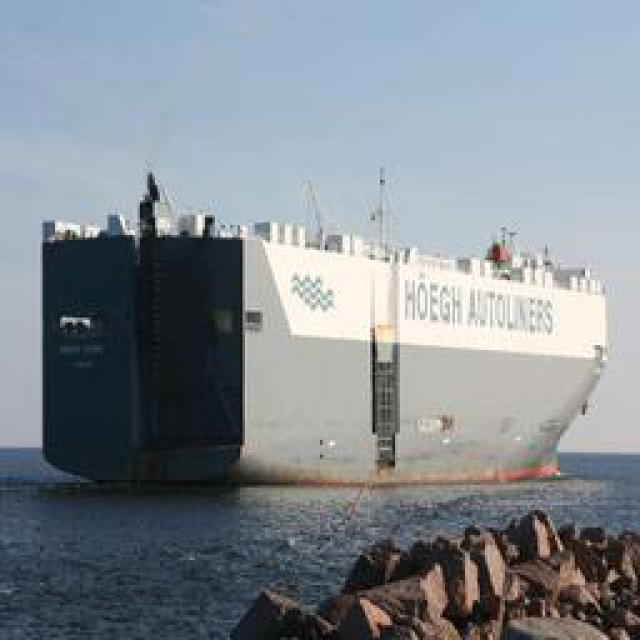Ship: (116, 166, 601, 491)
